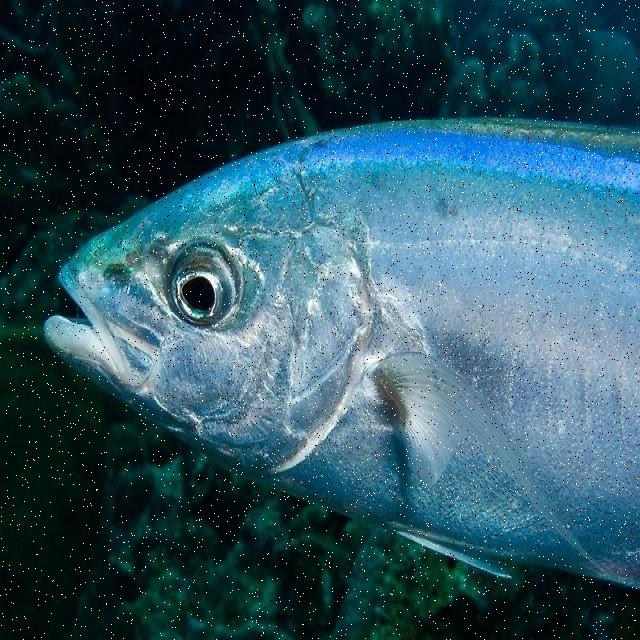fish: (43, 117, 639, 588)
